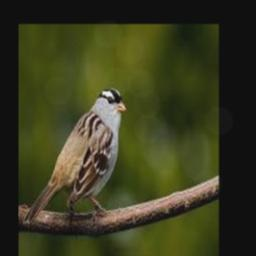Sparrow: (23, 86, 126, 228)
